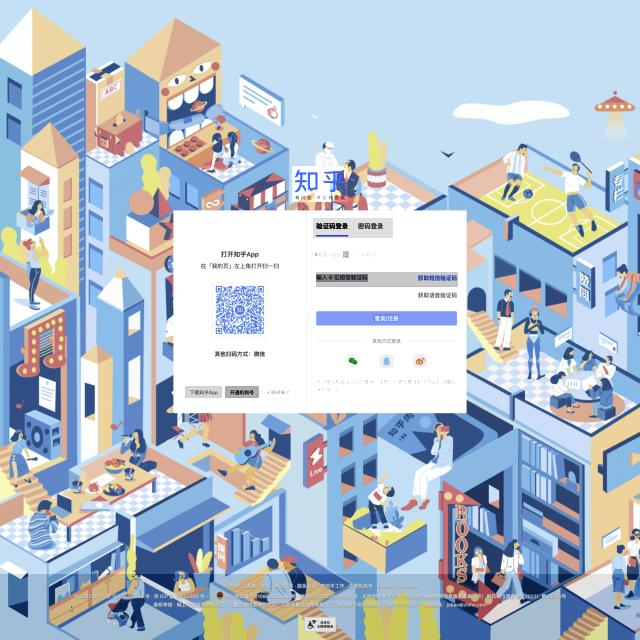CheckBox: (316, 311, 457, 326), (185, 386, 222, 398), (225, 386, 259, 398), (262, 386, 294, 398)
CheckedTextView: (316, 248, 458, 264), (316, 272, 458, 287)
Input field: (315, 377, 460, 396)
badge: (0, 574, 640, 640)
carousel: (345, 354, 360, 368), (379, 354, 394, 368), (413, 354, 428, 368), (344, 251, 349, 258)
data feed: (373, 314, 399, 322)
footer: (316, 274, 368, 282), (317, 250, 341, 258), (360, 252, 378, 258)
icon: (313, 218, 393, 238)
image: (292, 166, 348, 202)
